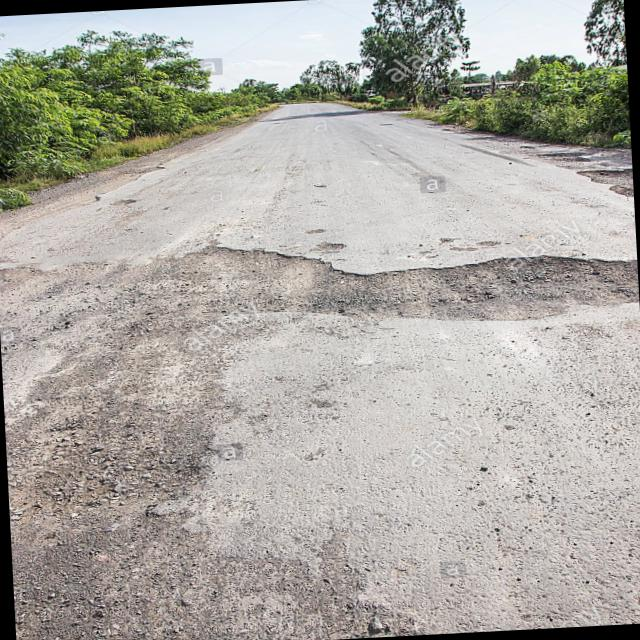Potholes: (0, 220, 631, 365)
